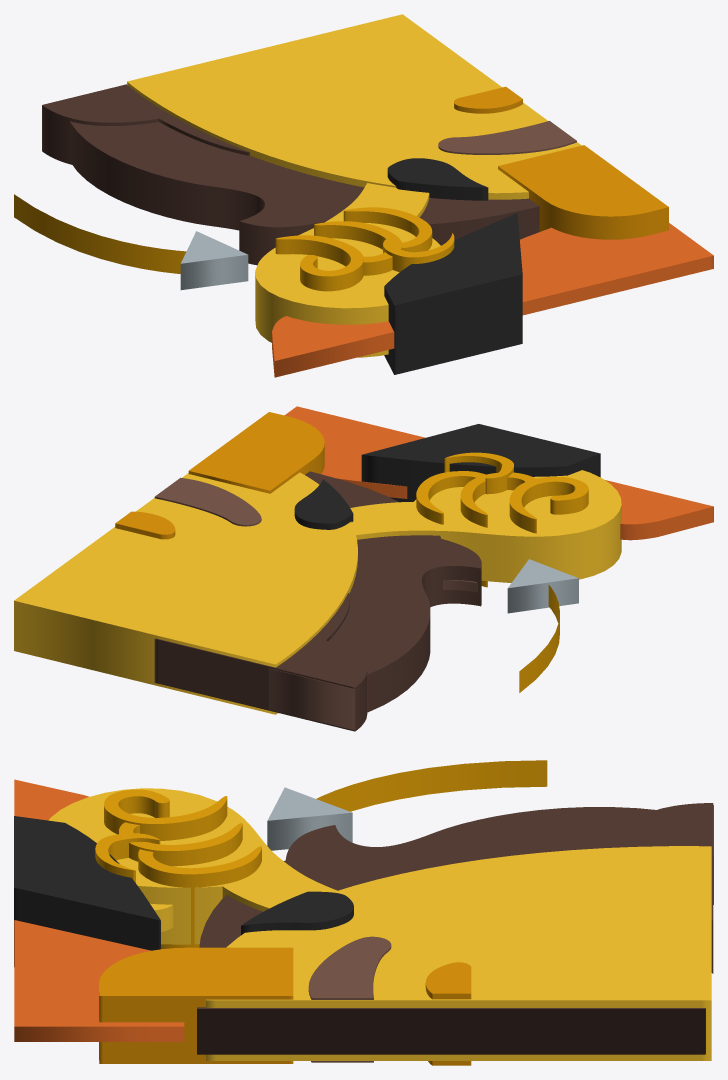
File: emoji_u1f9cf.glb
3 views of the same model, one above another, from view 1: azimuth 30°, elevation 25°; view 2: azimuth 150°, elevation 25°; view 3: azimuth 270°, elevation 25° (orthographic). The views are drawn at different scales.
Visible parts, largest first — view 1: emoji_u1f9cf; view 2: emoji_u1f9cf; view 3: emoji_u1f9cf.
Part boxes in pixels (x1,y1,x2,y2): emoji_u1f9cf: (14,14,713,377); emoji_u1f9cf: (14,406,713,731); emoji_u1f9cf: (14,760,713,1065).
Size of the model in its own units: 0.0295 by 0.005 by 0.0335.
